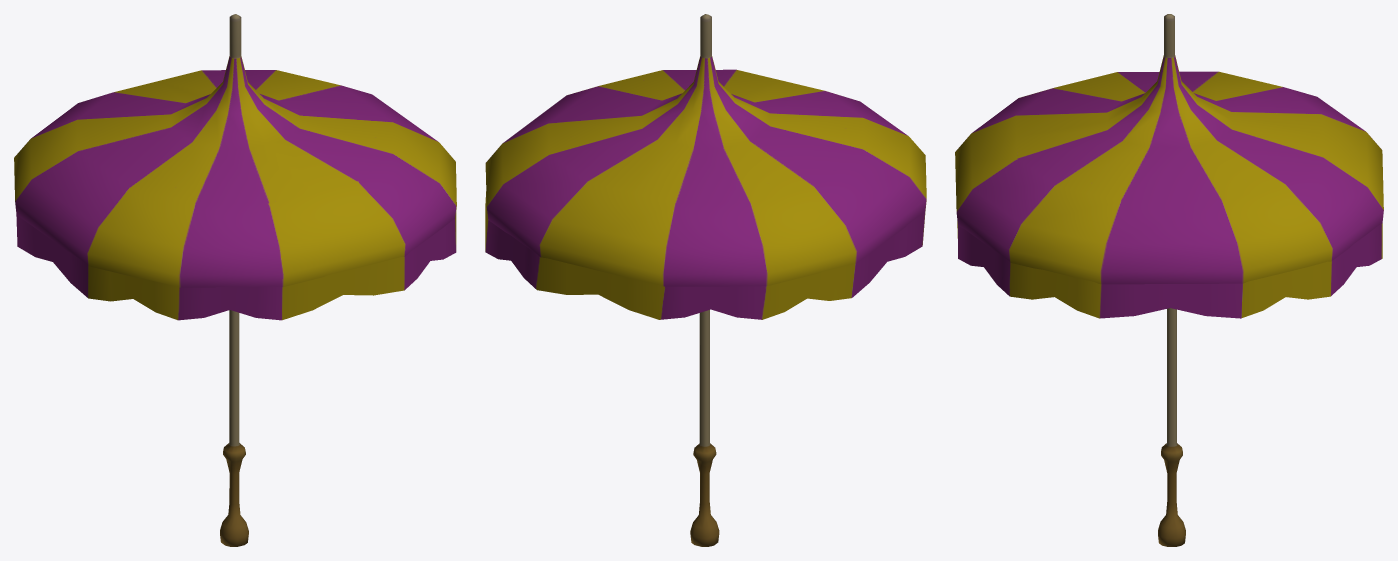
Rendered from PinkYellowParasol1_Scaled.fbx.
3 views of the same model, side by side, from view 1: azimuth 30°, elevation 25°; view 2: azimuth 150°, elevation 25°; view 3: azimuth 270°, elevation 25° (orthographic).
Parts seen in each view (by area): view 1: ParasolTop_2, Parasol_RoundedFrill_1, ParasolHandle_2; view 2: ParasolTop_2, Parasol_RoundedFrill_1, ParasolHandle_2; view 3: ParasolTop_2, Parasol_RoundedFrill_1, ParasolHandle_2.
Boxes of the visible parts, box(x1,y1,x2,y2) form: ParasolTop_2: box(14, 14, 456, 287); Parasol_RoundedFrill_1: box(16, 213, 456, 320); ParasolHandle_2: box(220, 310, 248, 546); ParasolTop_2: box(485, 14, 926, 286); Parasol_RoundedFrill_1: box(485, 191, 925, 319); ParasolHandle_2: box(690, 310, 719, 546); ParasolTop_2: box(955, 14, 1383, 284); Parasol_RoundedFrill_1: box(957, 221, 1382, 318); ParasolHandle_2: box(1158, 308, 1185, 546).
Size of the model in its own units: 94.11 by 128 by 94.1.
